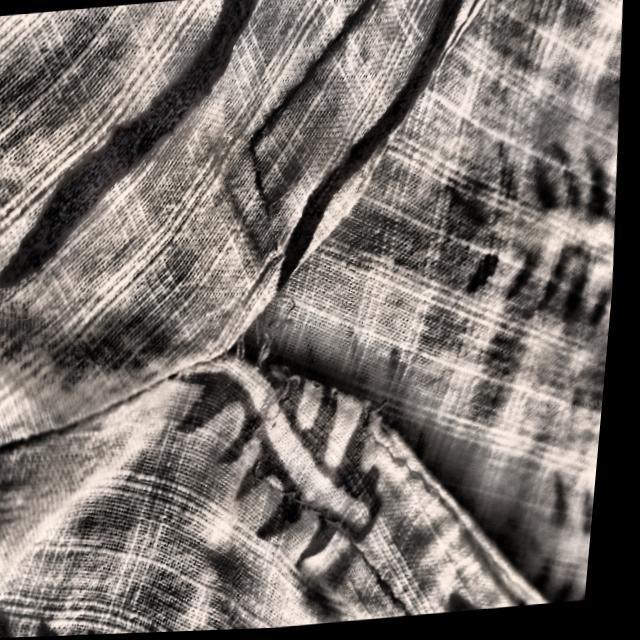Stitch: (234, 248, 342, 519)
